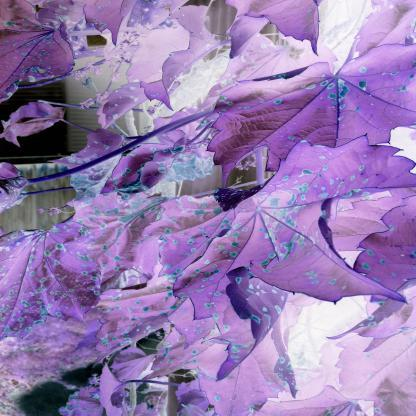grape leaf: (168, 143, 411, 320), (214, 44, 414, 181), (1, 214, 102, 350), (124, 6, 216, 118), (209, 268, 282, 382), (90, 284, 182, 372), (0, 1, 75, 102), (349, 193, 416, 298), (112, 144, 197, 200), (97, 81, 156, 130)
